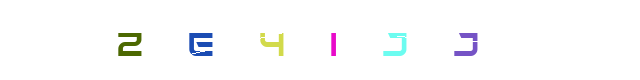1: (281, 0, 361, 80)
4: (270, 0, 350, 80)
E: (215, 0, 295, 80)
J: (293, 0, 373, 80), (344, 0, 424, 80)
Z: (89, 0, 169, 80)
